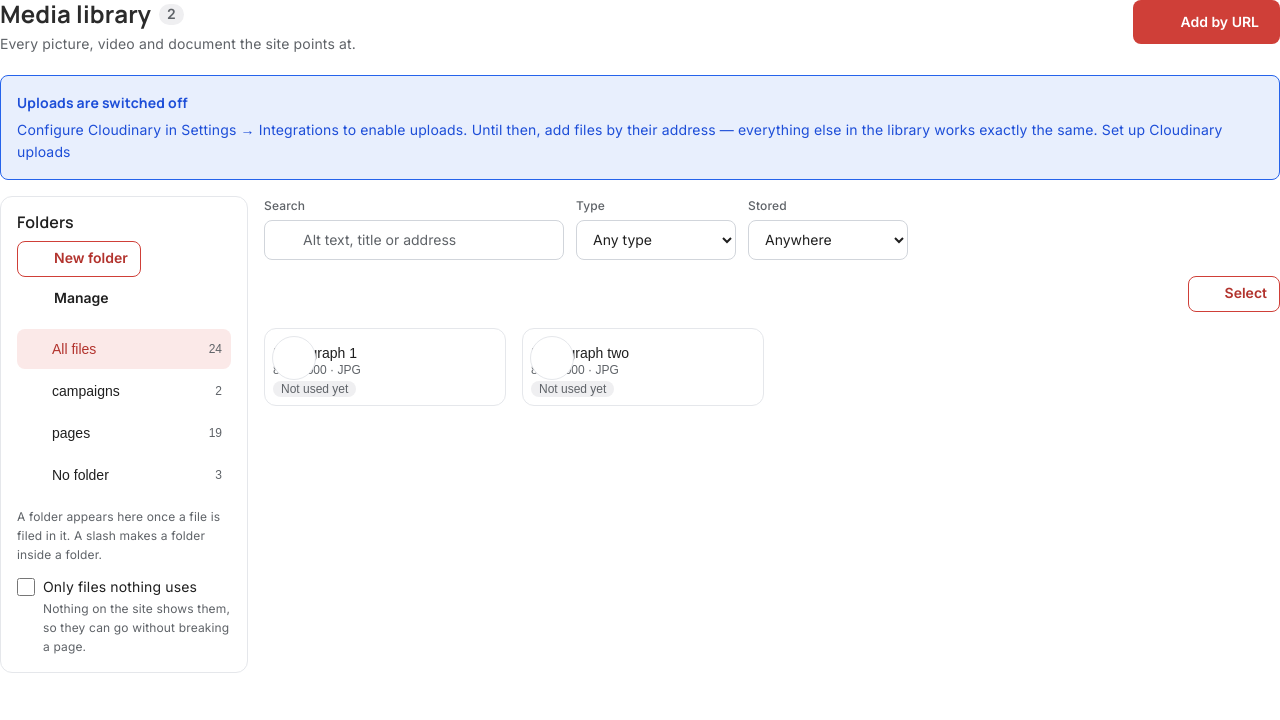
select mode › lists every file still in use when a removal is refused, and removes nothing
Expected: the button "Photograph 1 800 × 600 · JPG Not used yet" is shown, [264,328,506,406]
Click the button "Select": point(1234, 294) [1188,276,1279,312]
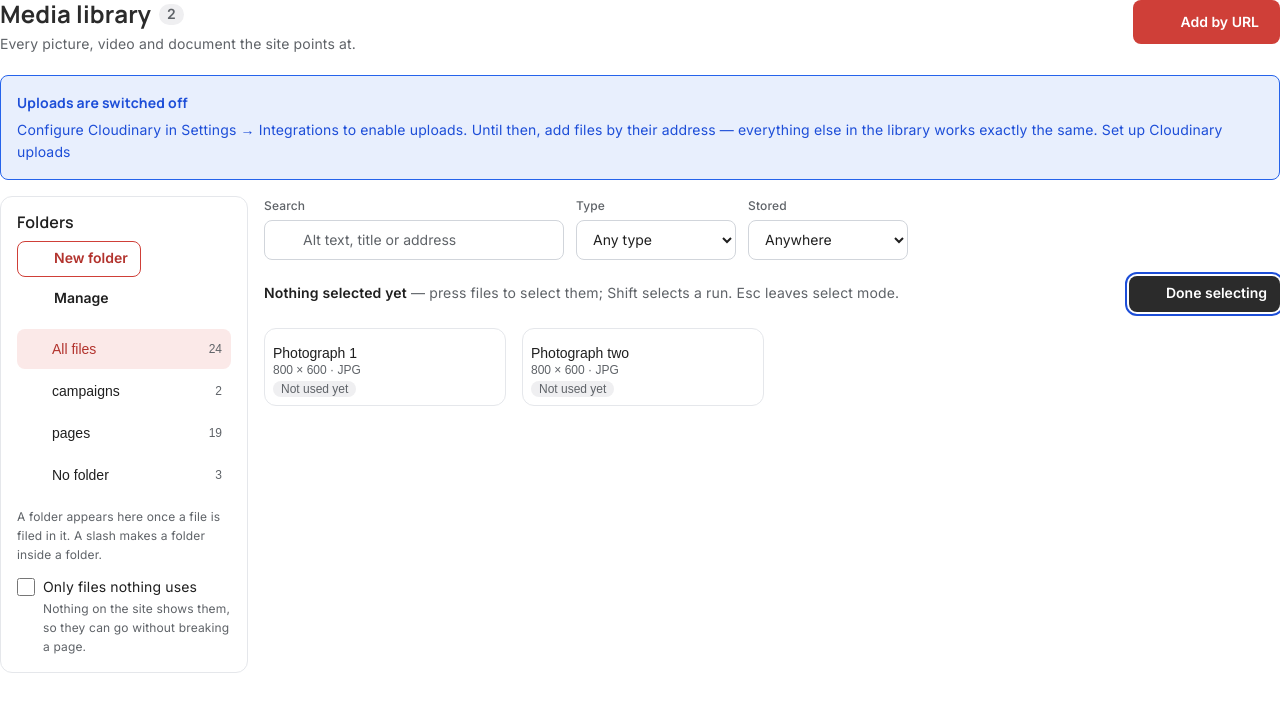
Click the button "Photograph 1 800 × 600 · JPG Not used yet": point(385, 366) [264,328,506,406]
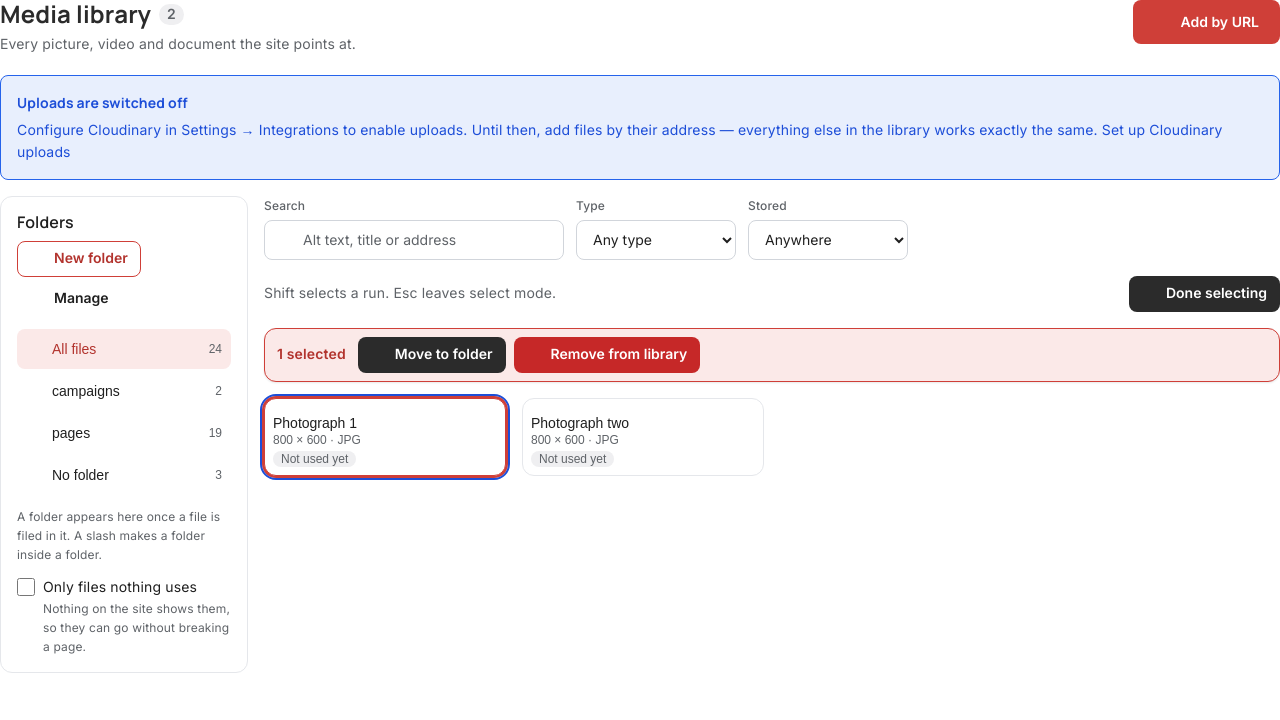
Click the button "Photograph two 800 × 600 · JPG Not used yet": point(643, 436) [522,398,764,476]
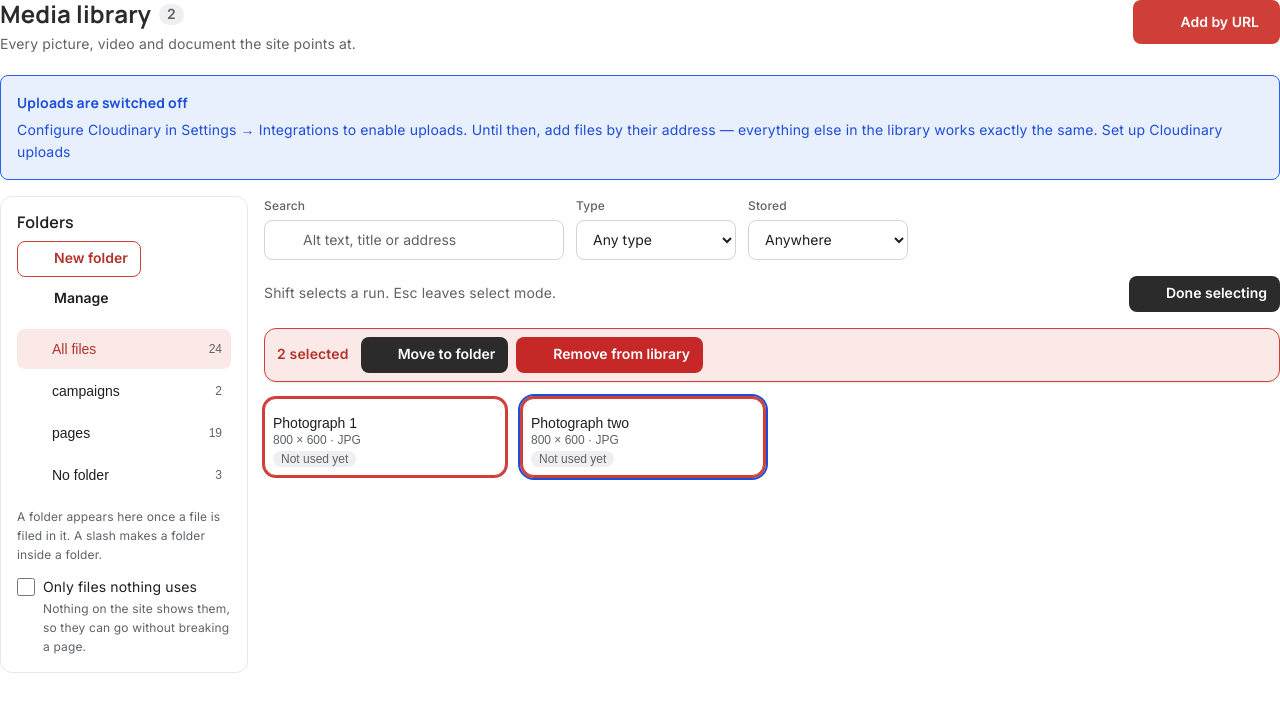
Click the button "Remove from library": point(610, 354) [516,336,703,372]
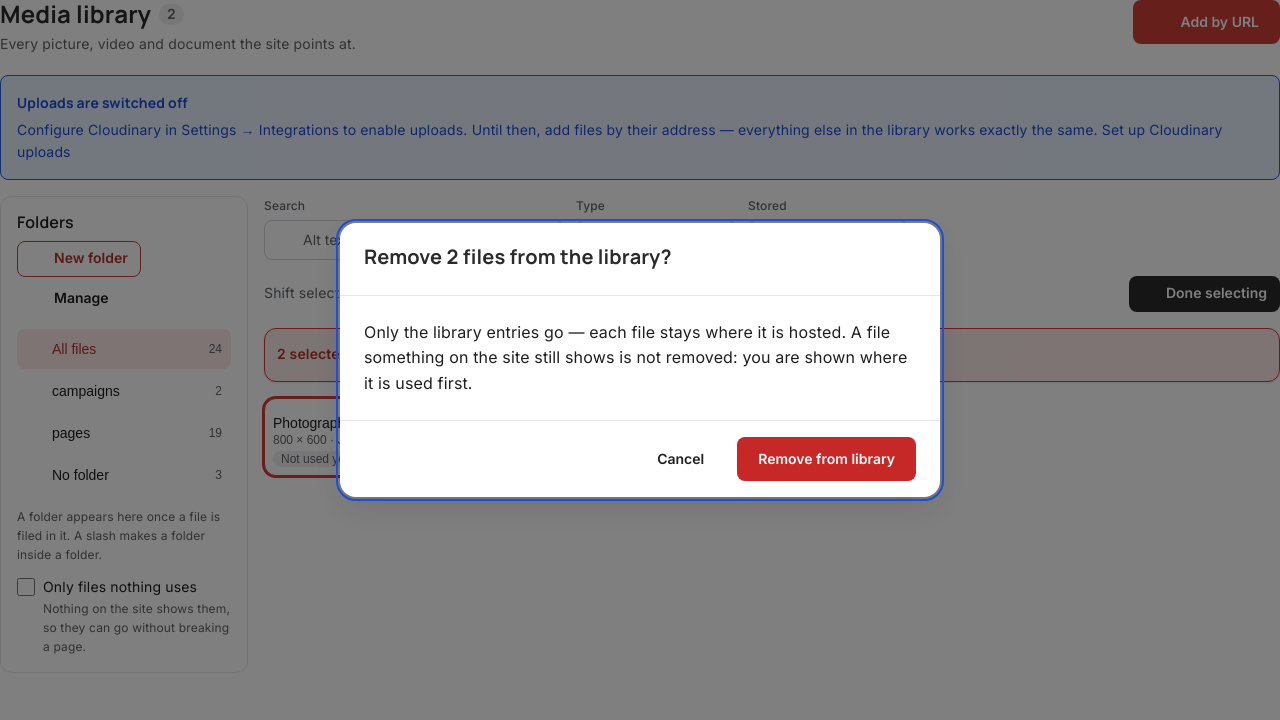
Click the button "Remove from library": point(827, 459) [737,437,916,481]
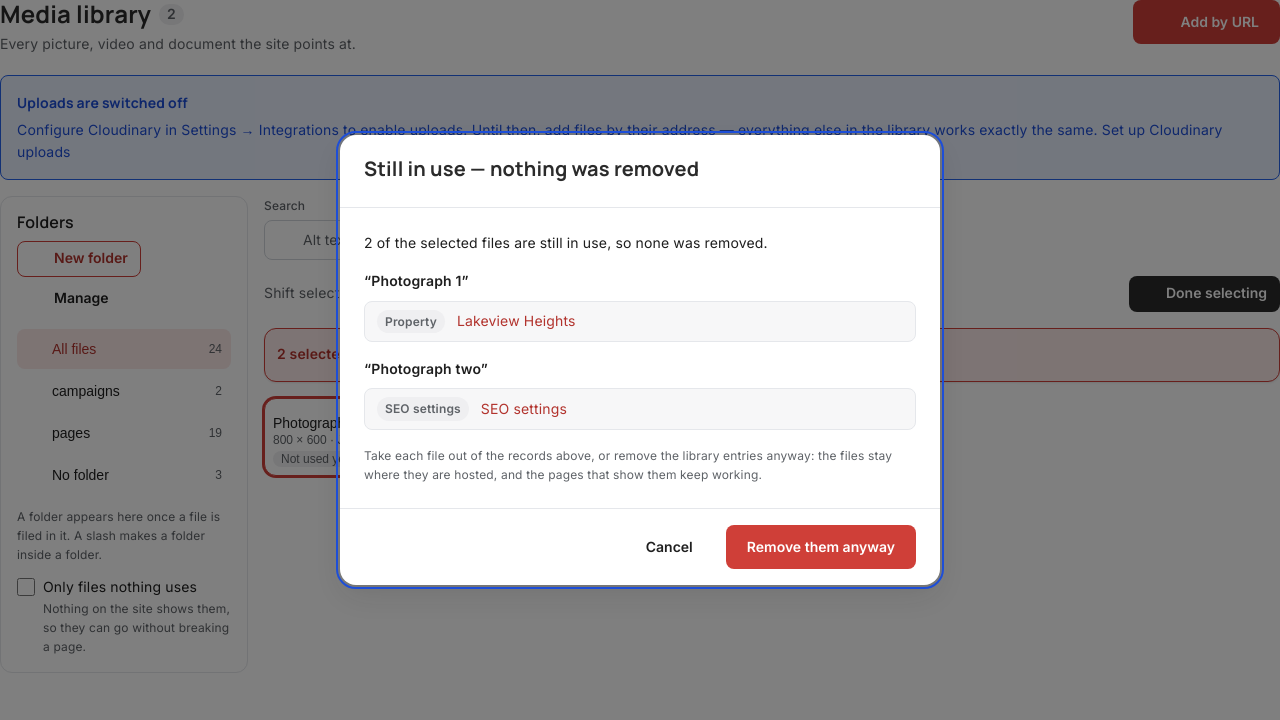
Expected: the link "Lakeview Heights" is shown, [457,310,594,333]
Expected: the link "SEO settings" is shown, [481,398,585,420]
